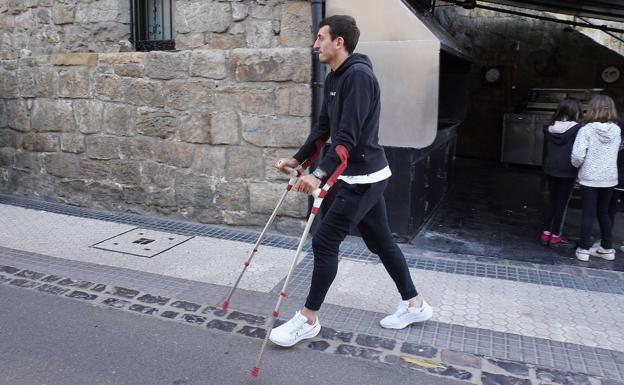crutches: (221, 11, 434, 381)
